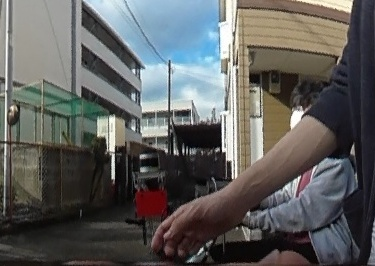person: (218, 79, 366, 266)
